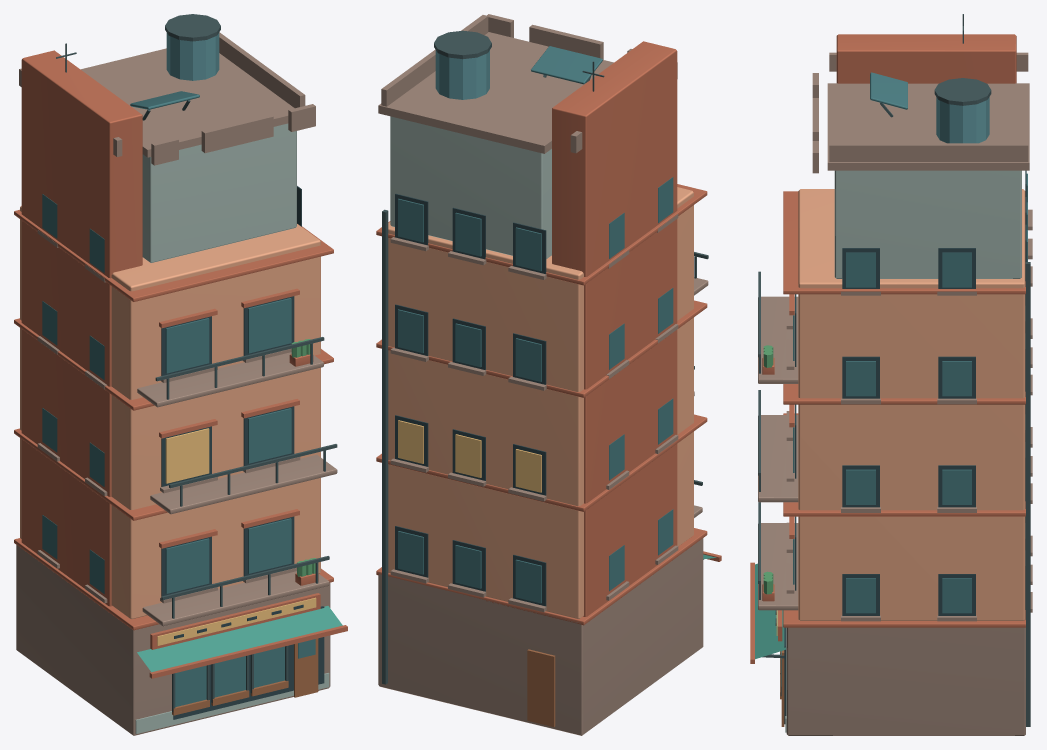
File: skyline-shophouse.glb
The picture shows the model from 3 angles, left to right: view 1: azimuth 30°, elevation 25°; view 2: azimuth 150°, elevation 25°; view 3: azimuth 270°, elevation 25°; orthographic projection. The views are drawn at different scales.
Visible parts, largest first — view 1: skyline_material_skyline_terracotta_trim, skyline_material_skyline_rain_concrete, skyline_material_skyline_warm_plaster, skyline_material_skyline_teal_glass, skyline_material_skyline_side_plaster, skyline_material_skyline_charcoal_rail, skyline_material_skyline_deep_recess, skyline_material_skyline_green_awning, skyline_material_skyline_warm_windows, skyline_material_skyline_roof_metal, skyline_material_skyline_shop_wood; view 2: skyline_material_skyline_warm_plaster, skyline_material_skyline_terracotta_trim, skyline_material_skyline_rain_concrete, skyline_material_skyline_teal_glass, skyline_material_skyline_side_plaster, skyline_material_skyline_deep_recess, skyline_material_skyline_charcoal_rail, skyline_material_skyline_warm_windows, skyline_material_skyline_roof_metal, skyline_material_skyline_shop_wood; view 3: skyline_material_skyline_warm_plaster, skyline_material_skyline_rain_concrete, skyline_material_skyline_side_plaster, skyline_material_skyline_terracotta_trim, skyline_material_skyline_teal_glass, skyline_material_skyline_deep_recess, skyline_material_skyline_charcoal_rail, skyline_material_skyline_roof_metal, skyline_material_skyline_green_awning, skyline_material_skyline_balcony_green.
Part boxes in pixels (x1,y1,x2,y2): skyline_material_skyline_terracotta_trim: (14, 50, 347, 678); skyline_material_skyline_rain_concrete: (16, 32, 337, 735); skyline_material_skyline_warm_plaster: (20, 206, 320, 619); skyline_material_skyline_teal_glass: (42, 91, 315, 706); skyline_material_skyline_side_plaster: (135, 123, 329, 733); skyline_material_skyline_charcoal_rail: (56, 14, 337, 712); skyline_material_skyline_deep_recess: (161, 186, 324, 719); skyline_material_skyline_green_awning: (137, 606, 342, 672); skyline_material_skyline_warm_windows: (157, 428, 316, 645); skyline_material_skyline_roof_metal: (166, 32, 219, 80); skyline_material_skyline_shop_wood: (172, 638, 318, 715); skyline_material_skyline_warm_plaster: (388, 187, 693, 618); skyline_material_skyline_terracotta_trim: (376, 41, 721, 625); skyline_material_skyline_rain_concrete: (378, 14, 708, 735); skyline_material_skyline_teal_glass: (398, 46, 673, 603); skyline_material_skyline_side_plaster: (390, 116, 551, 258); skyline_material_skyline_deep_recess: (395, 193, 546, 606); skyline_material_skyline_charcoal_rail: (382, 30, 708, 684); skyline_material_skyline_warm_windows: (398, 420, 541, 492); skyline_material_skyline_roof_metal: (435, 50, 489, 99); skyline_material_skyline_shop_wood: (527, 649, 555, 726); skyline_material_skyline_warm_plaster: (798, 189, 1025, 620); skyline_material_skyline_rain_concrete: (758, 52, 1032, 735); skyline_material_skyline_side_plaster: (785, 170, 1021, 732); skyline_material_skyline_terracotta_trim: (750, 34, 1025, 663); skyline_material_skyline_teal_glass: (781, 72, 1027, 686); skyline_material_skyline_deep_recess: (775, 170, 1026, 724); skyline_material_skyline_charcoal_rail: (758, 14, 1030, 726); skyline_material_skyline_roof_metal: (936, 97, 989, 143); skyline_material_skyline_green_awning: (755, 563, 785, 659); skyline_material_skyline_balcony_green: (763, 345, 773, 594).
Bounding box in the file's own units: 6.56 × 19.45 × 7.84.
